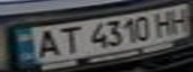0: (133, 13, 154, 42)
1: (121, 16, 139, 44)
3: (103, 18, 124, 47)
4: (87, 20, 109, 50)
A: (27, 27, 66, 60)
H: (166, 6, 193, 34), (151, 9, 178, 37)
T: (51, 24, 84, 54)
